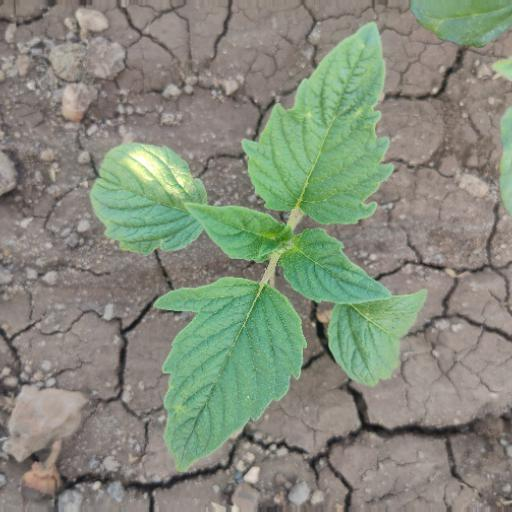crop: (88, 24, 428, 475)
